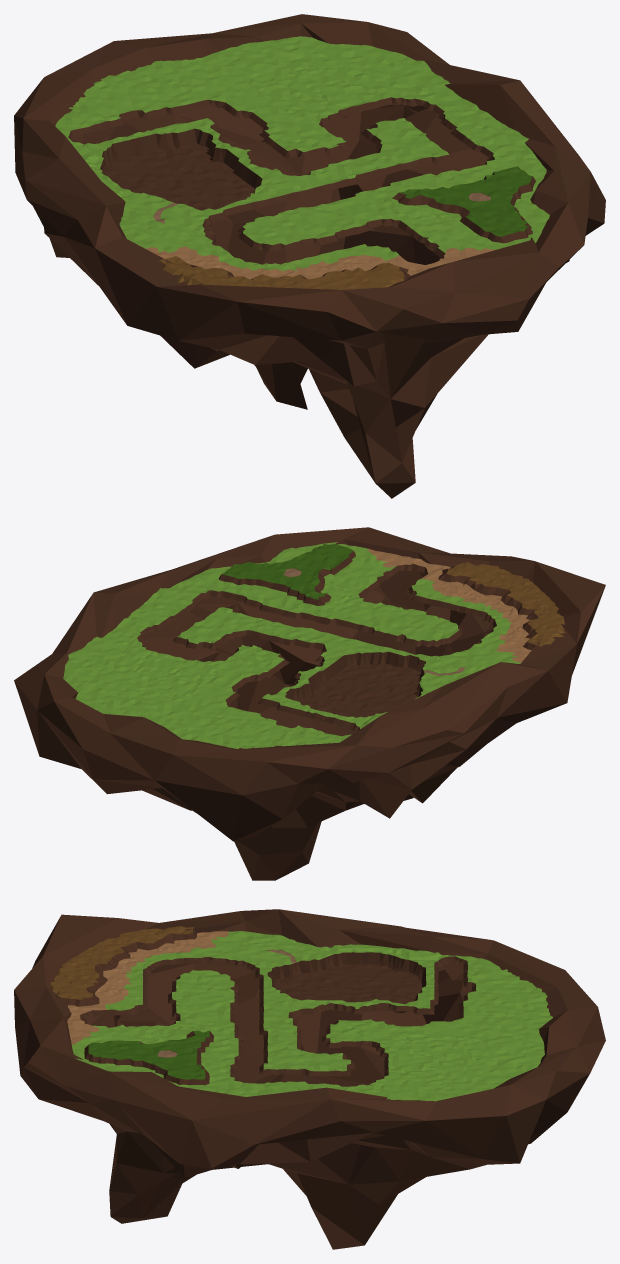
File: MainIslandLevel2.fbx
3 renders of one model, top to bottom at view 1: azimuth 30°, elevation 25°; view 2: azimuth 150°, elevation 25°; view 3: azimuth 270°, elevation 25°, orthographic. The views are drawn at different scales.
Parts seen in each view (by area): view 1: Icosphere, Plane.002; view 2: Icosphere, Plane.002; view 3: Icosphere, Plane.002.
Boxes of the visible parts, x1,y1,x2,y2 form: Icosphere: (14, 14, 605, 498); Plane.002: (55, 36, 549, 289); Icosphere: (14, 527, 605, 880); Plane.002: (63, 542, 565, 748); Icosphere: (14, 909, 605, 1249); Plane.002: (50, 926, 552, 1101).
Size of the model in its own units: 13738 by 7550 by 16661.
